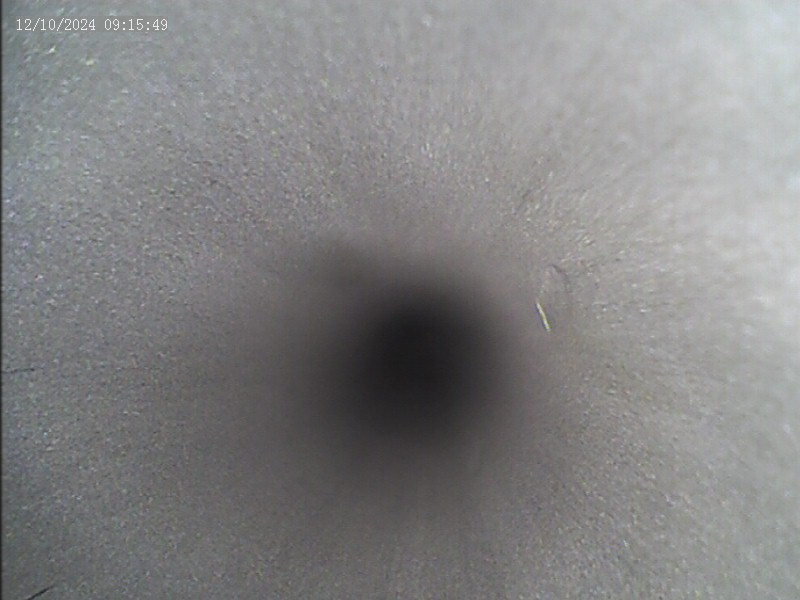defective_area: (529, 299, 557, 334)
